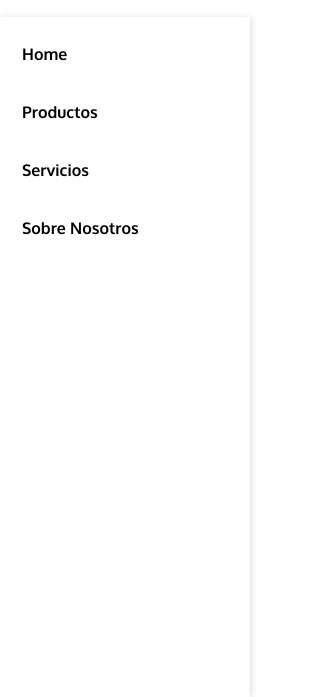
Test: CustomNav › opens and closes the dropdown for a selected option
Click the list item "Productos": (54,112) [10, 92, 98, 130]
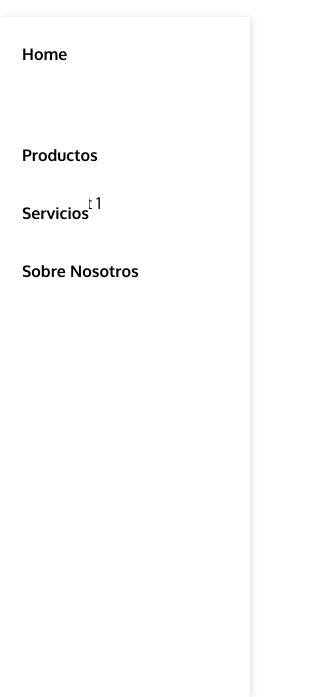
Expected: the list item "Product 1" is shown, [22, 174, 222, 232]
Expected: the list item "Product 2" is shown, [22, 232, 222, 290]
Note: Close the submenu by clicking the same option
Click the list item "Productos": (116,212) [10, 136, 222, 290]
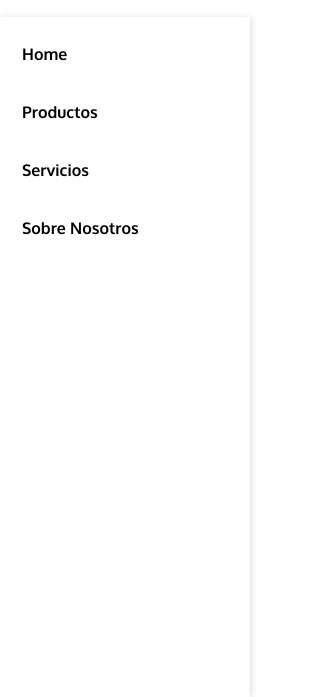
Expected: the list item "Product 1" is gone
Expected: the list item "Product 2" is gone
